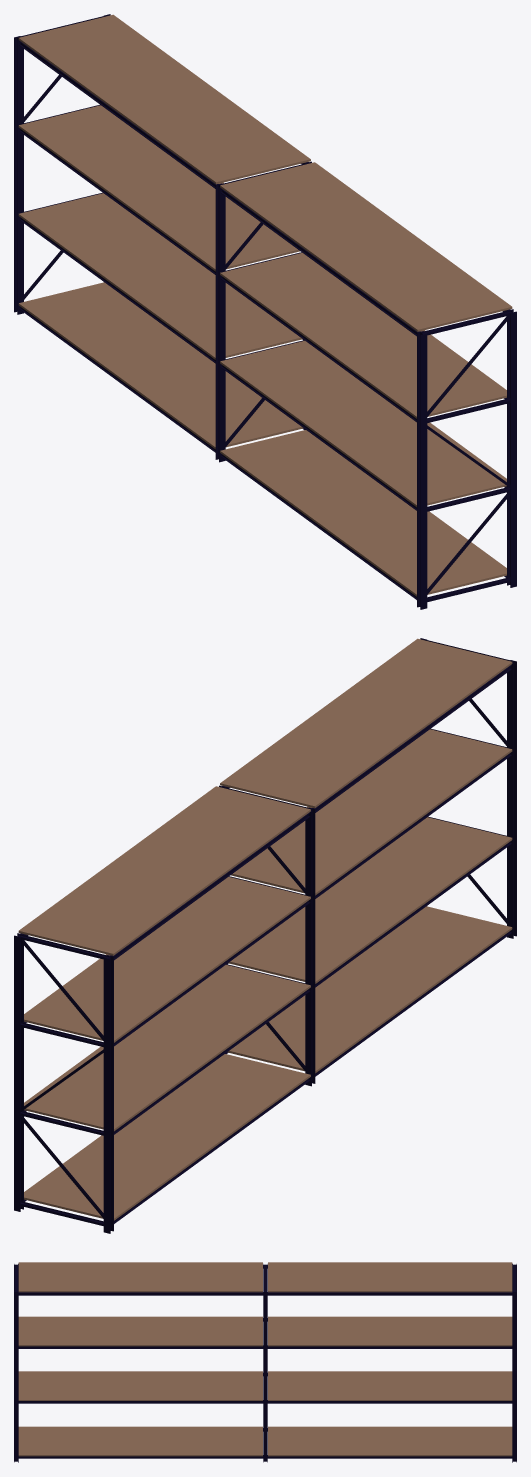
Rendered from Shelf.fbx.
3 views of the same model, one above another, from view 1: azimuth 30°, elevation 25°; view 2: azimuth 150°, elevation 25°; view 3: azimuth 270°, elevation 25° (orthographic). The views are drawn at different scales.
Visible parts, largest first — view 1: 07. lemari.001; view 2: 07. lemari.001; view 3: 07. lemari.001.
Boxes of the visible parts, box(x1,y1,x2,y2) form: 07. lemari.001: box(14, 14, 516, 609); 07. lemari.001: box(14, 638, 516, 1233); 07. lemari.001: box(14, 1262, 516, 1462).
Bounding box in the file's own units: 119 × 328 × 873.
